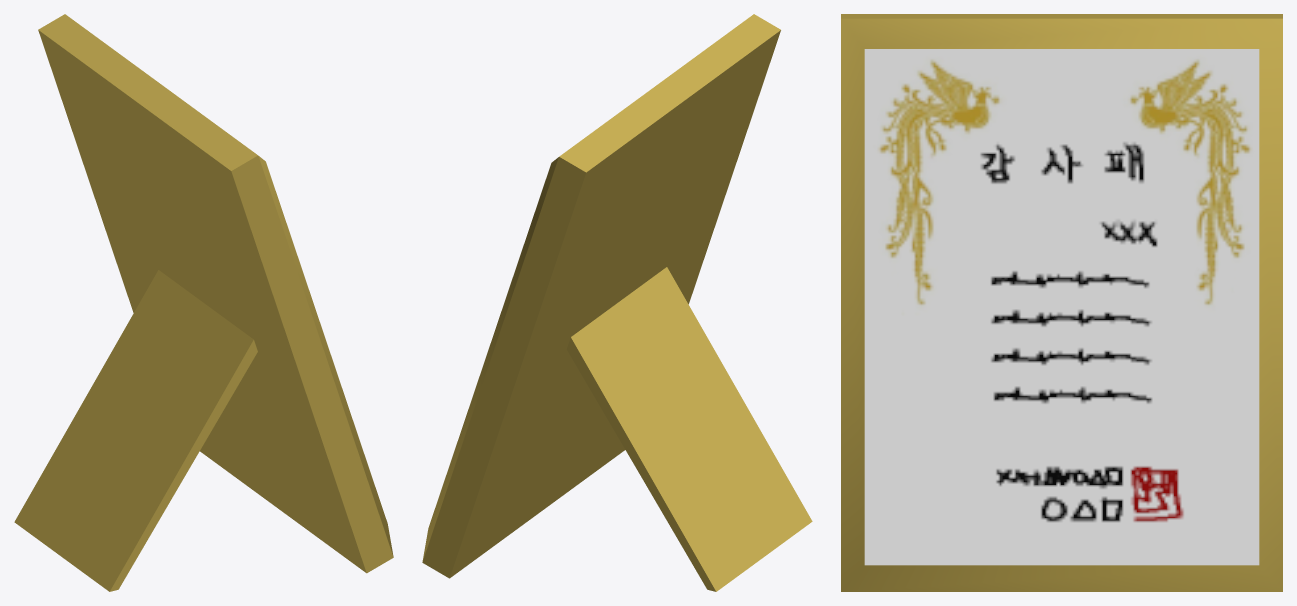
Rendered from fbx_award_plaque_1.fbx.
3 views of the same model, side by side, from view 1: azimuth 30°, elevation 25°; view 2: azimuth 150°, elevation 25°; view 3: azimuth 270°, elevation 25° (orthographic). The views are drawn at different scales.
Parts seen in each view (by area): view 1: fbx_award_plaque_1; view 2: fbx_award_plaque_1; view 3: fbx_award_plaque_1.
Part boxes in pixels (x1,y1,x2,y2): fbx_award_plaque_1: [14, 14, 393, 591]; fbx_award_plaque_1: [422, 14, 812, 591]; fbx_award_plaque_1: [841, 14, 1282, 591].
Size of the model in its own units: 0.3308 by 0.5779 by 0.4552.
Materials: 1 (1 with a texture image).
